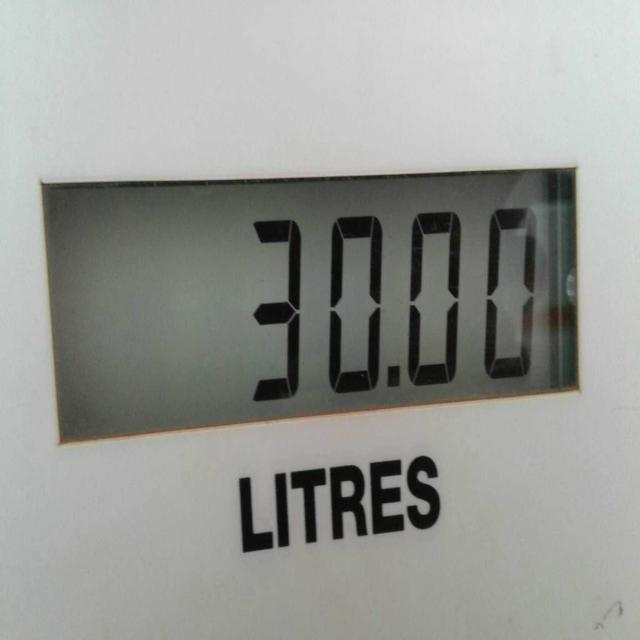.: (382, 340, 408, 400)
0: (328, 227, 382, 393), (408, 220, 460, 388), (487, 211, 534, 372)
3: (254, 226, 305, 396)
